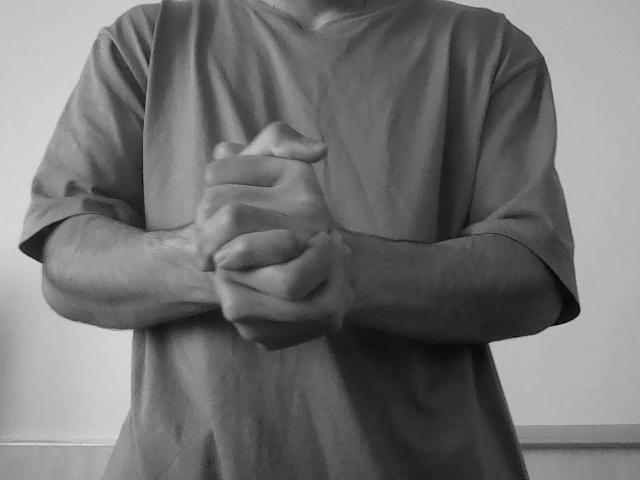friend: (175, 118, 364, 358)
